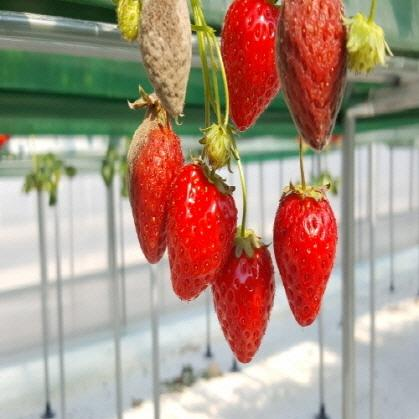Gray Mold: (138, 0, 193, 126), (126, 84, 171, 212)
